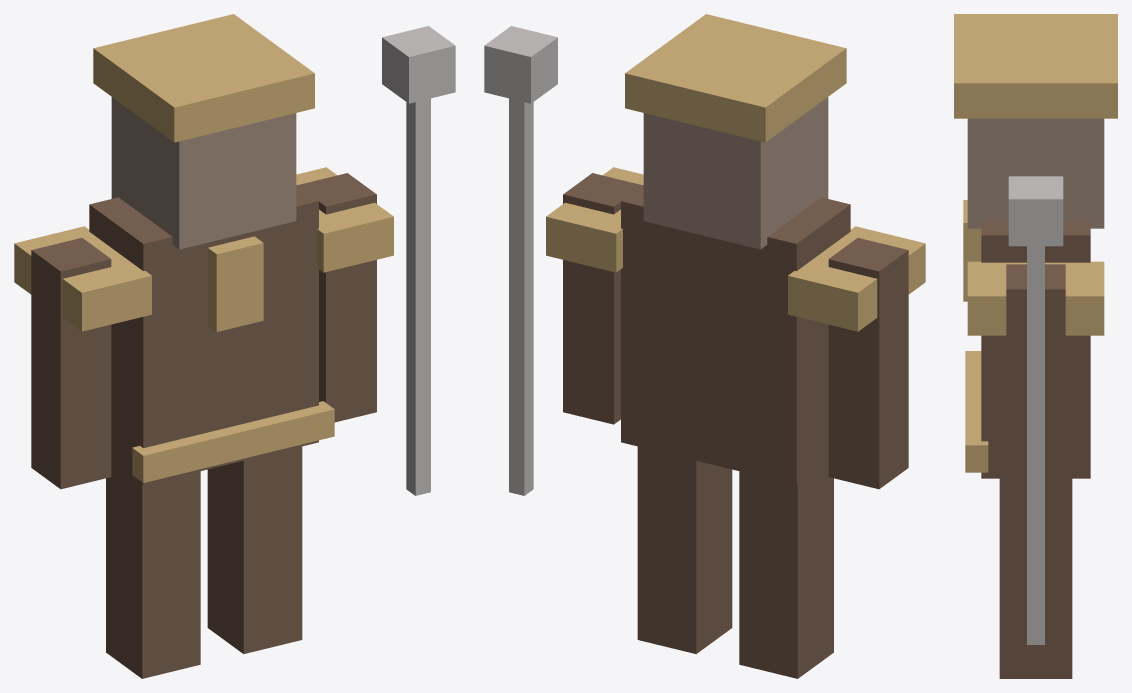
Rendered from 20_korra_whispercoil_captain_near_compass.glb.
The picture shows the model from 3 angles, left to right: view 1: azimuth 30°, elevation 25°; view 2: azimuth 150°, elevation 25°; view 3: azimuth 270°, elevation 25°; orthographic projection.
Parts seen in each view (by area): view 1: Korra Whispercoil, Captain near Compass; view 2: Korra Whispercoil, Captain near Compass; view 3: Korra Whispercoil, Captain near Compass.
Part boxes in pixels (x1,y1,x2,y2): Korra Whispercoil, Captain near Compass: (14, 14, 455, 678); Korra Whispercoil, Captain near Compass: (484, 14, 925, 678); Korra Whispercoil, Captain near Compass: (954, 14, 1117, 678).
Size of the model in its own units: 0.9873 by 1.39 by 0.3502.
